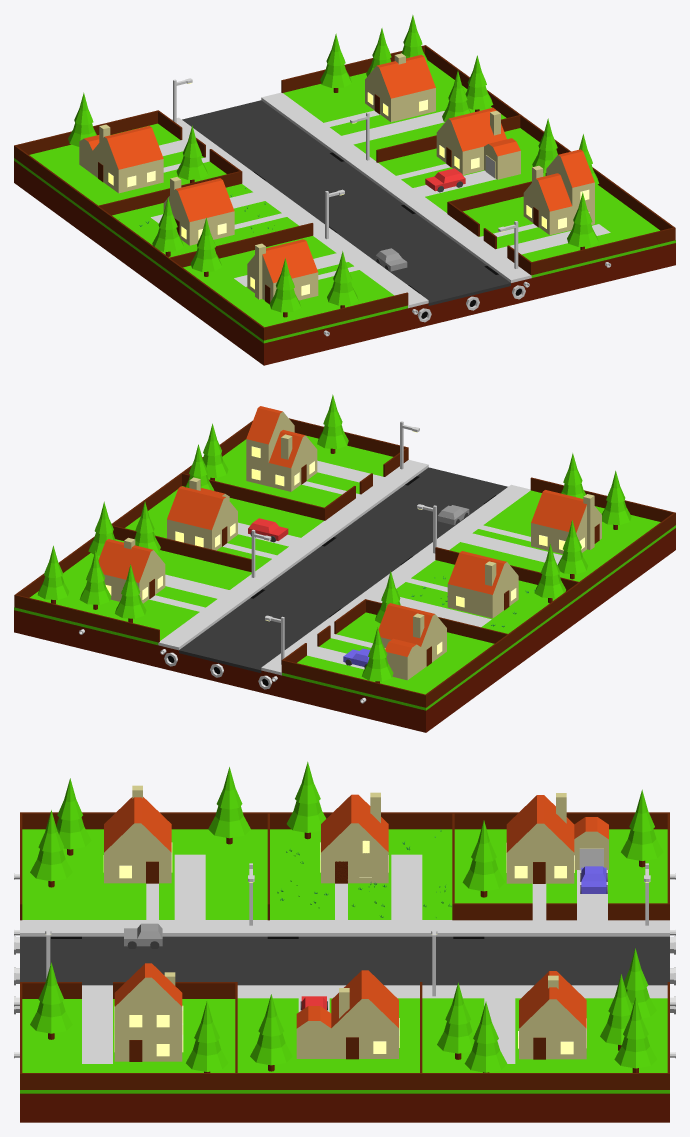
The model's file is neighborhood4.glb.
3 views of the same model, one above another, from view 1: azimuth 30°, elevation 25°; view 2: azimuth 150°, elevation 25°; view 3: azimuth 270°, elevation 25° (orthographic). The views are drawn at different scales.
Parts seen in each view (by area): view 1: Plane_3, Cube.004_11, Cube.002_12, Cube.001_10, Cube.062_9, Cube.060_8, Cube.058_7, Cube.056_6, Cube.054_5, Cube.010_18, Cube.006_15, Cube.005_14 (+11 smaller); view 2: Plane_3, Cube.004_11, Cube.002_12, Cube.060_8, Cube.062_9, Cube.056_6, Cube.001_10, Cube.054_5, Cube.058_7, Cube.023_25, Cube.017_19, Cube.010_18 (+12 smaller); view 3: Plane_3, Cube.002_12, Cube.004_11, Cube.062_9, Cube.001_10, Cube.060_8, Cube.056_6, Cube.054_5, Cube.058_7, Cube.009_17, Cube.008_16, Cube.021_23 (+14 smaller).
Part boxes in pixels (x1,y1,x2,y2): Plane_3: (14, 60, 675, 365); Cube.004_11: (14, 110, 408, 340); Cube.002_12: (281, 45, 675, 275); Cube.001_10: (436, 107, 520, 179); Cube.062_9: (79, 124, 163, 193); Cube.060_8: (523, 149, 594, 234); Cube.058_7: (365, 53, 435, 122); Cube.056_6: (163, 177, 234, 245); Cube.054_5: (247, 239, 318, 304); Cube.010_18: (320, 33, 351, 92); Cube.006_15: (190, 217, 221, 276); Cube.005_14: (269, 258, 301, 317); Plane_3: (14, 435, 675, 732); Cube.004_11: (281, 477, 675, 707); Cube.002_12: (14, 418, 408, 642); Cube.060_8: (246, 406, 317, 491); Cube.062_9: (378, 603, 446, 680); Cube.056_6: (447, 551, 518, 618); Cube.001_10: (167, 477, 237, 550); Cube.054_5: (531, 490, 601, 553); Cube.058_7: (98, 537, 165, 603); Cube.023_25: (317, 394, 348, 453); Cube.017_19: (79, 550, 111, 609); Cube.010_18: (115, 564, 146, 622); Plane_3: (20, 829, 669, 1122); Cube.002_12: (20, 982, 669, 1089); Cube.004_11: (20, 812, 669, 920); Cube.062_9: (506, 793, 608, 883); Cube.001_10: (296, 970, 399, 1059); Cube.060_8: (114, 963, 183, 1061); Cube.056_6: (320, 792, 388, 883); Cube.054_5: (103, 785, 172, 883); Cube.058_7: (518, 971, 586, 1059); Cube.009_17: (462, 820, 505, 897); Cube.008_16: (621, 789, 663, 867); Cube.021_23: (250, 994, 292, 1071).
Bounding box in the file's own units: 18.3 × 3.8 × 19.57.
